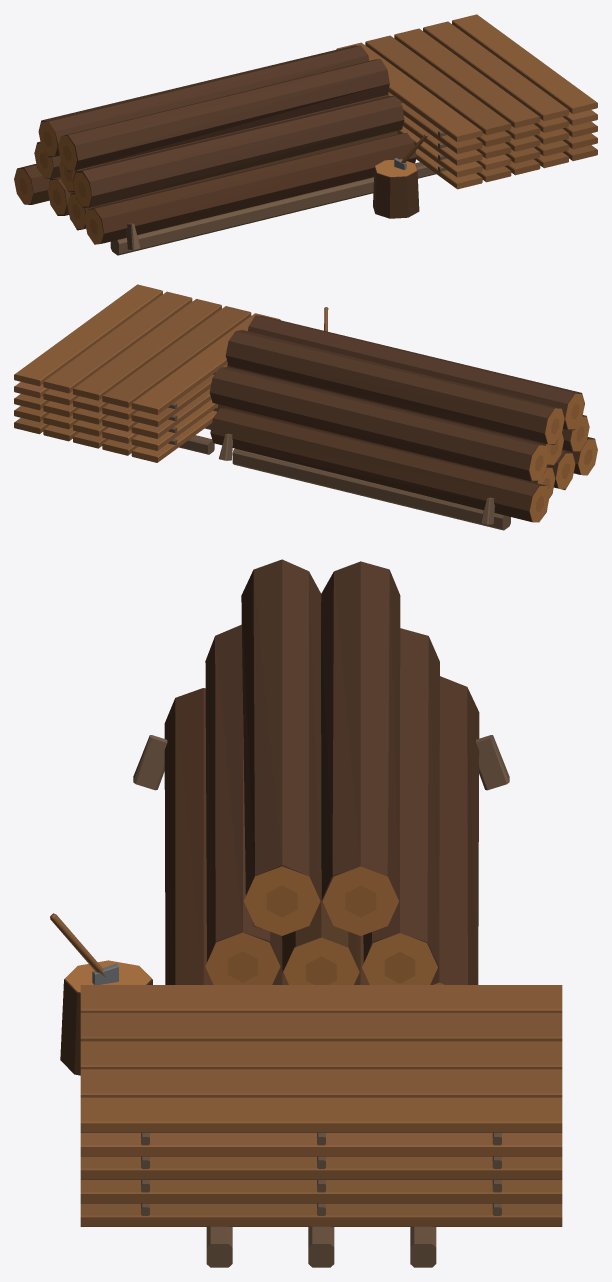
Rendered from prop_timber_stack_a.glb.
3 renders of one model, top to bottom at view 1: azimuth 30°, elevation 25°; view 2: azimuth 150°, elevation 25°; view 3: azimuth 270°, elevation 25°, orthographic. The views are drawn at different scales.
Parts seen in each view (by area): view 1: prop_timber_stack_a_mesh; view 2: prop_timber_stack_a_mesh; view 3: prop_timber_stack_a_mesh.
Part boxes in pixels (x1,y1,x2,y2): prop_timber_stack_a_mesh: [14, 14, 597, 255]; prop_timber_stack_a_mesh: [14, 284, 597, 530]; prop_timber_stack_a_mesh: [50, 559, 562, 1267].
Size of the model in its own units: 6.27 by 1.33 by 2.77.
